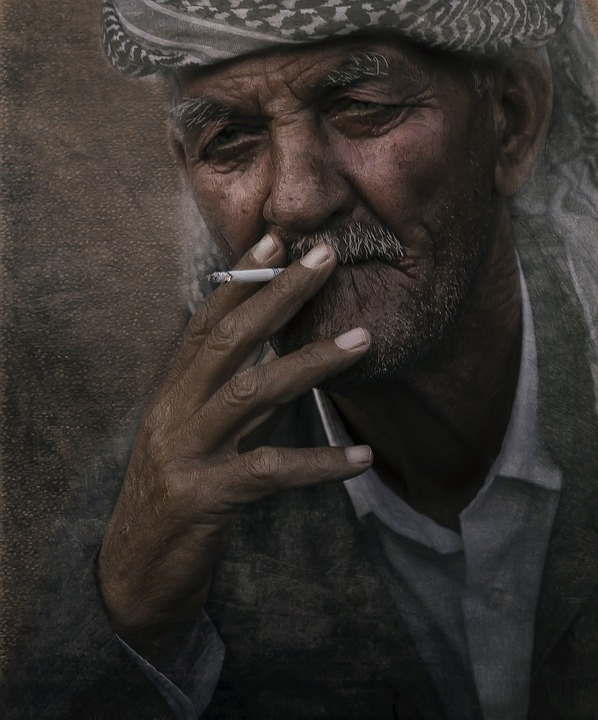sigaretta: (206, 256, 307, 299)
